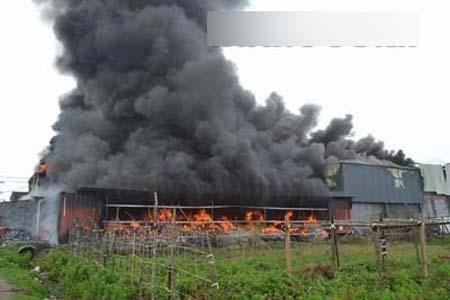fire: (55, 206, 325, 236)
